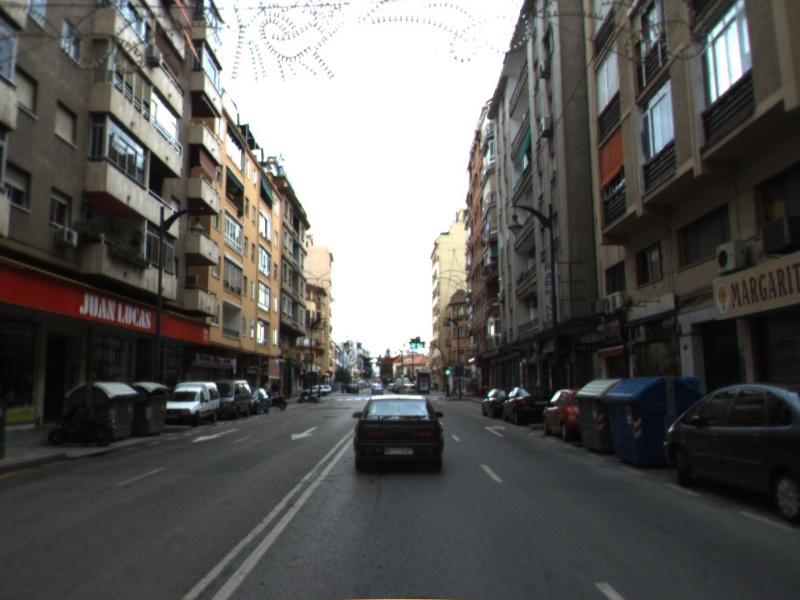RIGHT: (483, 423, 507, 438)
